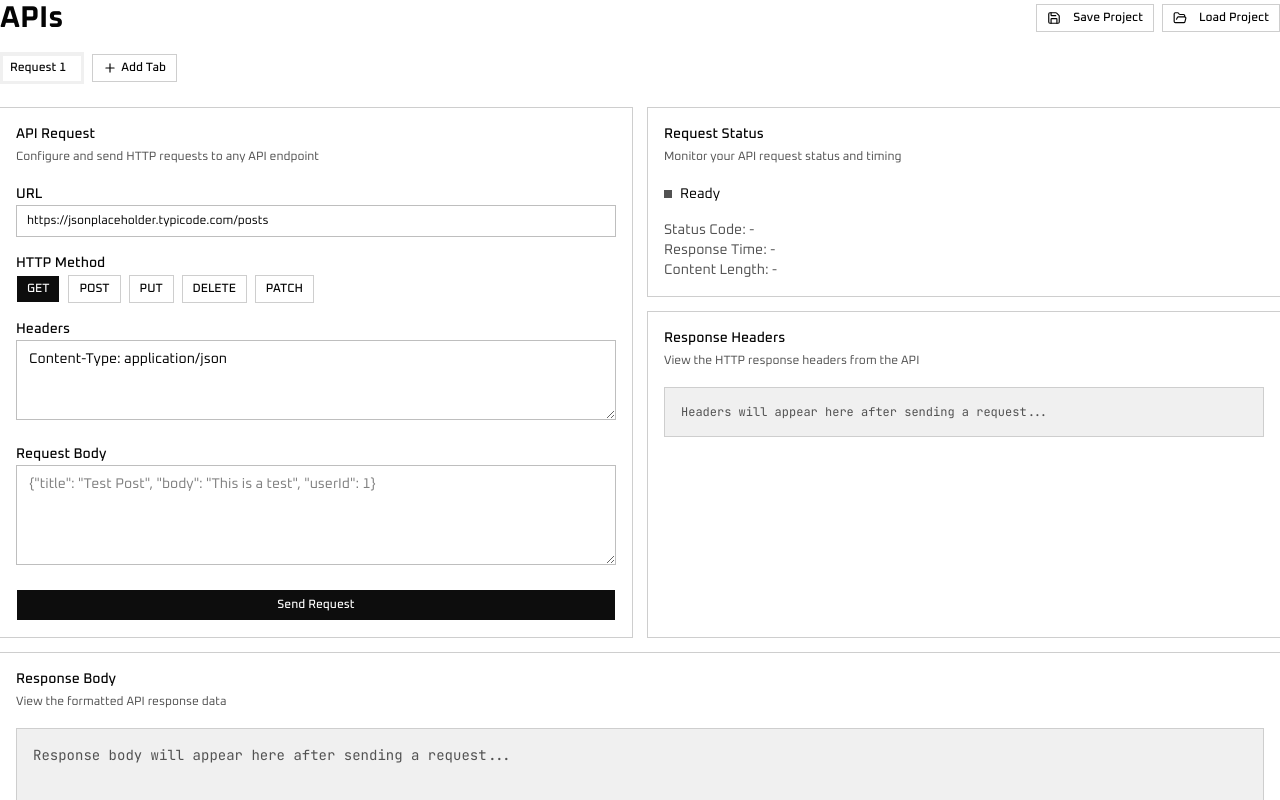
Test: BasicAPIsPage › opens load project dialog when Load Project button is clicked
This screenshot has width=1280, height=800.
Click Load Project button
Click the button "Load Project": (1221, 18) [1162,4,1279,32]
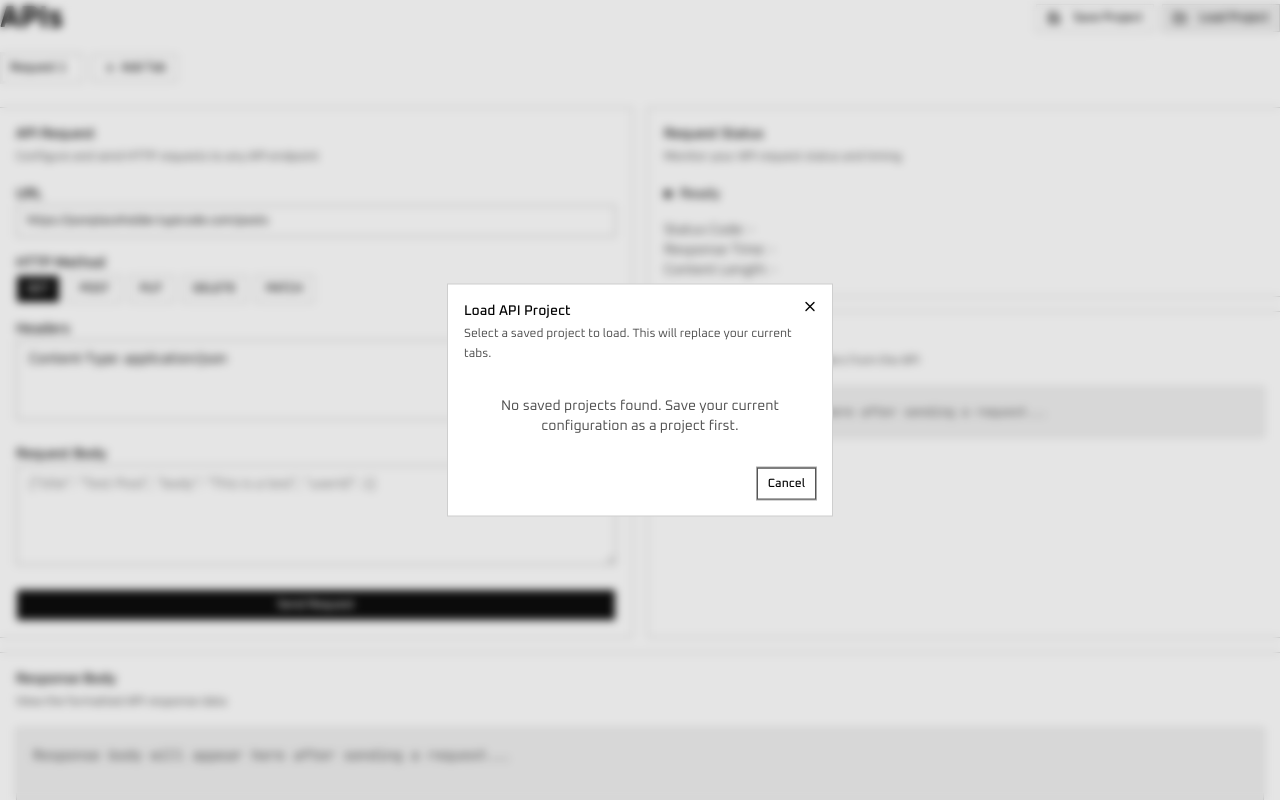
expect the heading "Load API Project" is shown: met, box [464,304,571,318]
expect the text "No saved projects found. Save your current configuration as a project first." is shown: met, box [501,398,779,432]
